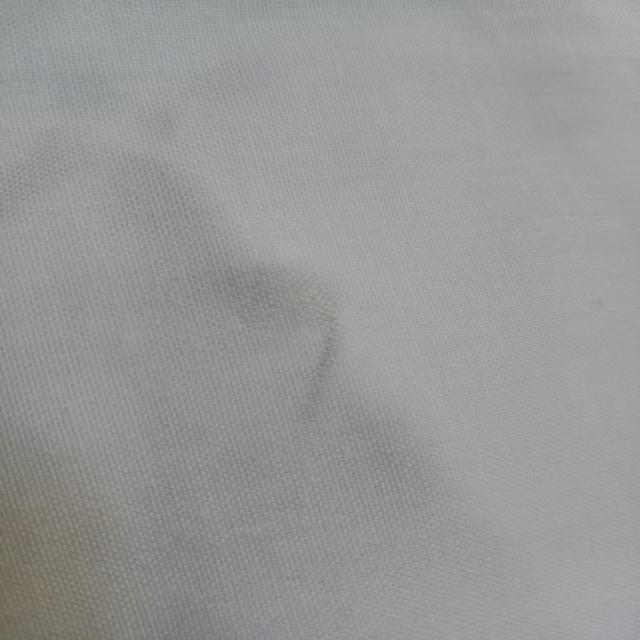stain: (208, 245, 364, 421)
